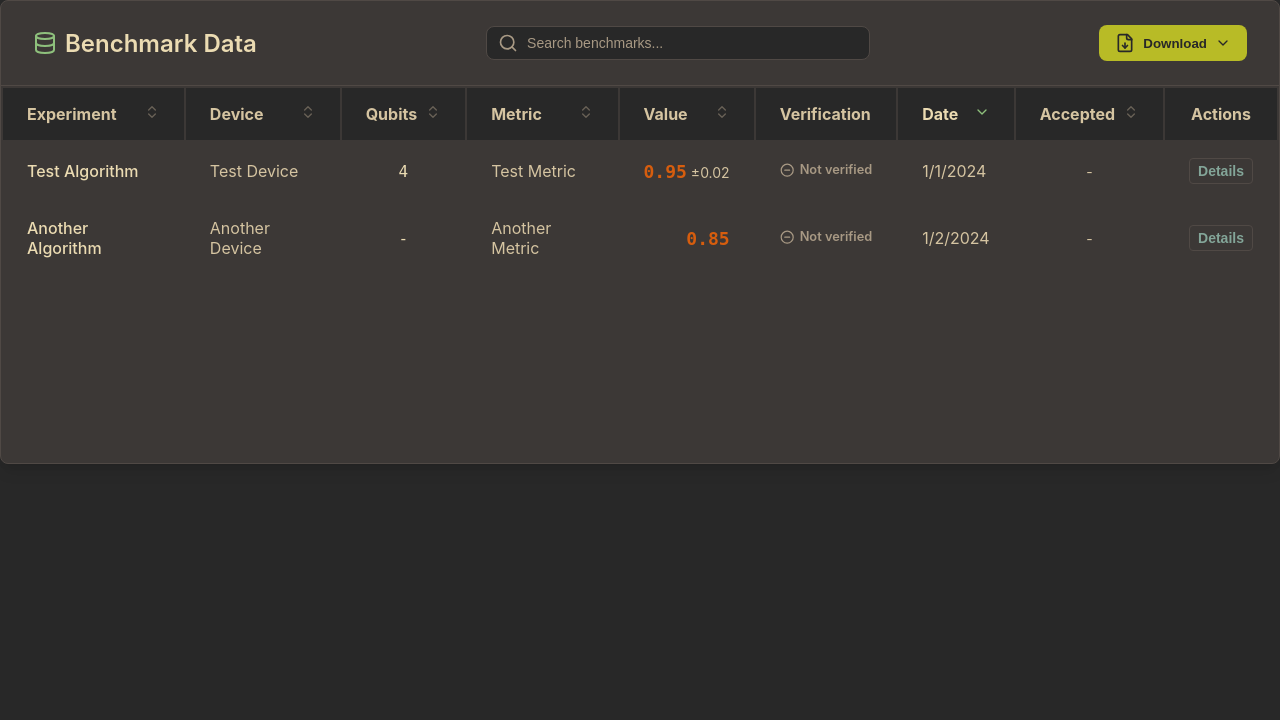
BenchmarkTable › renders timing coherence section with N/A when timing and QTV are absent
Click the text "Another Algorithm".
click(93, 238)  # box [3,202,184,274]
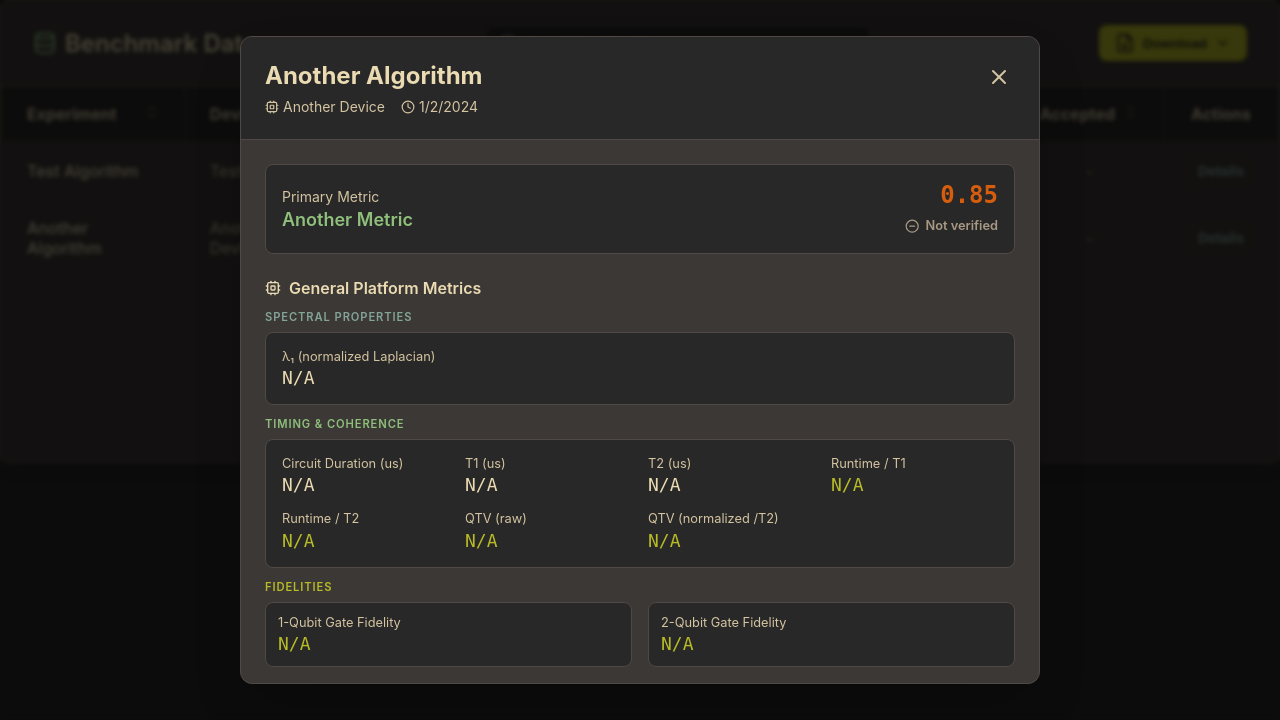
Result: the text "Timing & Coherence" is shown at [265,417,404,431]
Result: the text "Circuit Duration (us)" is shown at [282,456,403,471]
Result: the text "QTV (raw)" is shown at [465,511,527,526]
